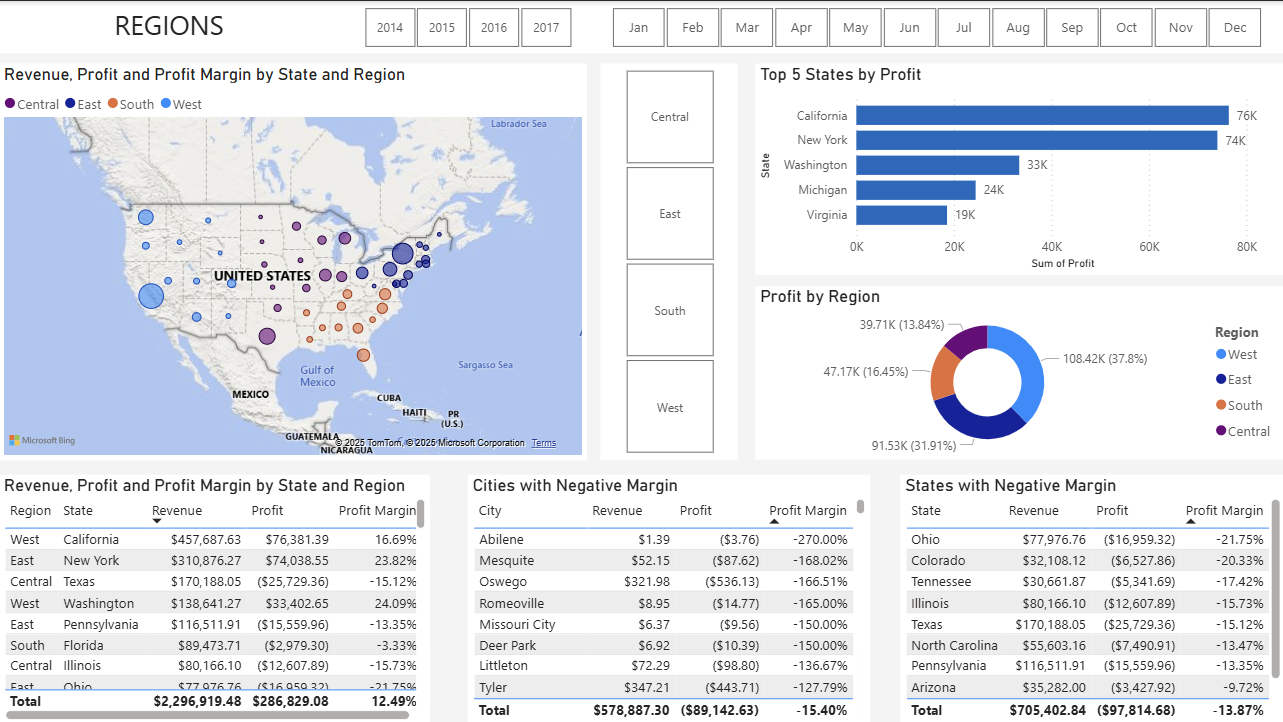

What the dashboard file says about the page in this screenshot:
{"tool":"powerbi","page":{"name":"REGIONS","canvas":[1280,720],"ordinal":3},"visuals":[{"type":"textbox","box":[0,0,338.4,52.2],"z":0},{"type":"map","fields":{"Size":["Measures (2).Revenue"],"Category":["vw_CleanSuperstoreBI.State"],"Series":["vw_CleanSuperstoreBI.Region"]},"box":[0,62.2,584.7,394.3],"z":1000},{"type":"slicer","fields":{"Values":["vw_CleanSuperstoreBI.Region"]},"box":[598.3,62.2,136.8,394.3],"z":2000},{"type":"clusteredBarChart","title":"Top 5 States by Profit","fields":{"Category":["vw_CleanSuperstoreBI.State"],"Y":["Sum(vw_CleanSuperstoreBI.Profit)"]},"box":[752.6,62.2,527.4,210.2],"z":3000},{"type":"tableEx","title":"States with Negative Margin","fields":{"Values":["vw_CleanSuperstoreBI.State","Measures (2).Revenue","Measures (2).Profit","Measures (2).Profit Margin"]},"box":[896.9,471.5,383.1,248.8],"z":4000},{"type":"tableEx","title":"Cities with Negative Margin","fields":{"Values":["vw_CleanSuperstoreBI.City","Measures (2).Revenue","Measures (2).Profit","Measures (2).Profit Margin"]},"box":[466.5,471.5,400.6,248.8],"z":5000},{"type":"tableEx","title":"Revenue, Profit and Profit Margin by State and Region","fields":{"Values":["vw_CleanSuperstoreBI.Region","vw_CleanSuperstoreBI.State","Measures (2).Revenue","Measures (2).Profit","Measures (2).Profit Margin"]},"box":[0,471.5,429.2,248.8],"z":6000},{"type":"slicer","fields":{"Values":["Date.MonthName"]},"box":[584.6,0,695.4,52.2],"z":7000},{"type":"slicer","fields":{"Values":["Date.Date Hierarchy.Year"]},"box":[338.4,0,255,52.2],"z":8000},{"type":"donutChart","title":"Profit by Region","fields":{"Category":["vw_CleanSuperstoreBI.Region"],"Y":["Sum(vw_CleanSuperstoreBI.Profit)"]},"box":[752.6,283.6,527.4,172.9],"z":9000}]}

Visuals, with their boxes in screenshot pixels (x1, y1, x2, y2), scaled from the page's 1280x720 canvas onto the 1283x722 screenshot:
textbox: 0,0,339,52
map - Measures (2).Revenue x vw_CleanSuperstoreBI.State: 0,62,586,458
slicer - vw_CleanSuperstoreBI.Region: 600,62,737,458
"Top 5 States by Profit" clusteredBarChart: 754,62,1282,273
"States with Negative Margin" tableEx: 899,473,1282,721
"Cities with Negative Margin" tableEx: 468,473,869,721
"Revenue, Profit and Profit Margin by State and Region" tableEx: 0,473,430,721
slicer - Date.MonthName: 586,0,1282,52
slicer - Date.Date Hierarchy.Year: 339,0,595,52
"Profit by Region" donutChart: 754,284,1282,458
